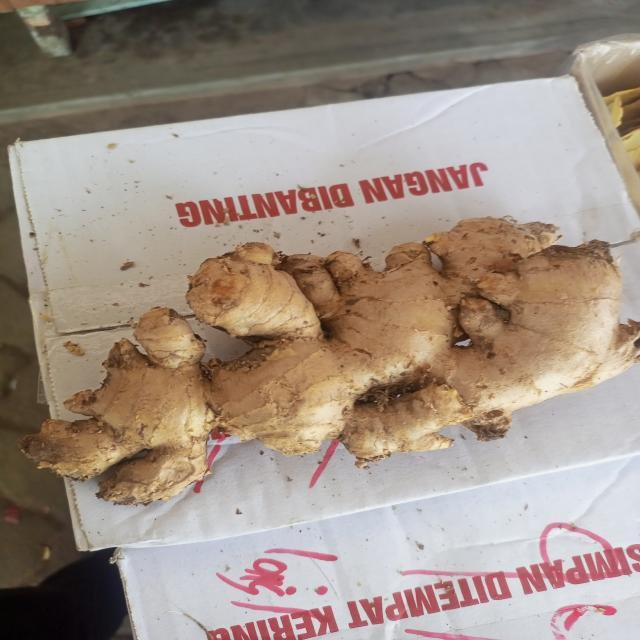ginger: (54, 220, 625, 486)
